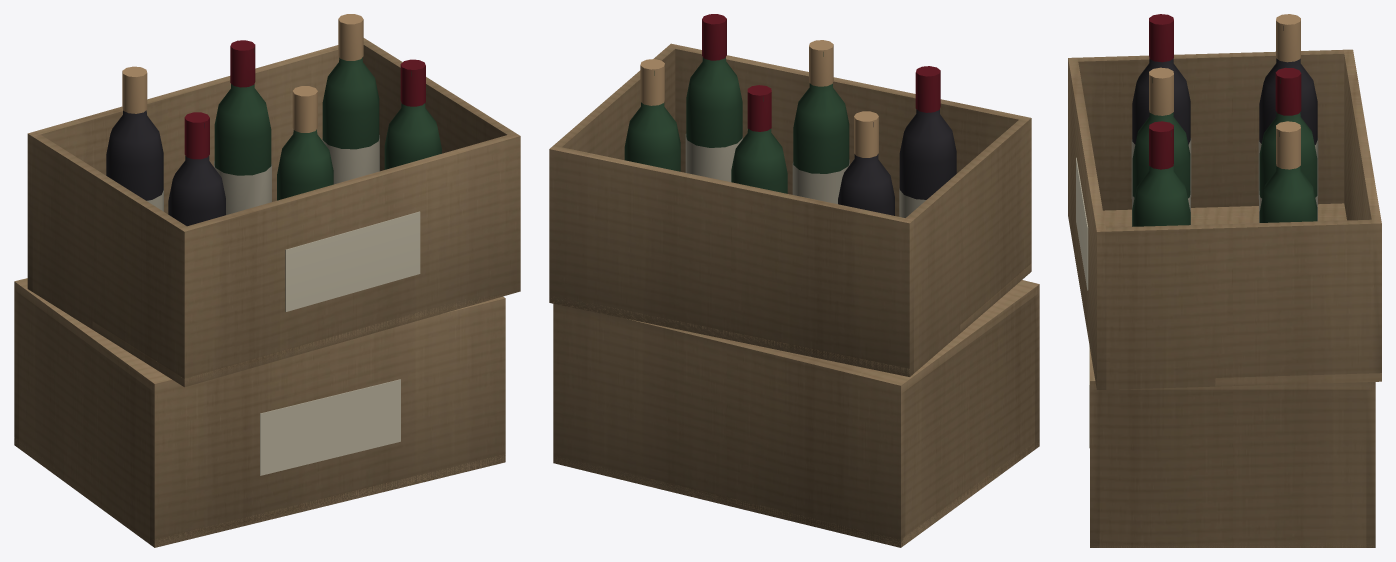
The model's file is decor_b_wine_crates.gltf.
3 views of the same model, side by side, from view 1: azimuth 30°, elevation 25°; view 2: azimuth 150°, elevation 25°; view 3: azimuth 270°, elevation 25° (orthographic). The views are drawn at different scales.
Parts seen in each view (by area): view 1: DecorBWineCrates_OakLight_NoCollide, DecorBWineCratesLow_OakLight, DecorBWineCrates_Label_NoCollide, DecorBWineCrates_WineBottle05_BottleGreen_NoCollide, DecorBWineCrates_WineBottle06_BottleGreen_NoCollide, DecorBWineCrates_WineBottle04_BottleBlack_NoCollide, DecorBWineCrates_WineBottle01_BottleBlack_NoCollide, DecorBWineCrates_WineBottle02_BottleGreen_NoCollide, DecorBWineCrates_WineBottle03_BottleGreen_NoCollide, DecorBWineCrates_WineBottle05_Label_NoCollide, DecorBWineCrates_WineBottle06_Label_NoCollide, DecorBWineCrates_WineBottle01_Wine_NoCollide (+5 smaller); view 2: DecorBWineCrates_OakLight_NoCollide, DecorBWineCratesLow_OakLight, DecorBWineCrates_WineBottle02_BottleGreen_NoCollide, DecorBWineCrates_WineBottle03_BottleGreen_NoCollide, DecorBWineCrates_WineBottle01_BottleBlack_NoCollide, DecorBWineCrates_WineBottle06_BottleGreen_NoCollide, DecorBWineCrates_WineBottle05_BottleGreen_NoCollide, DecorBWineCrates_WineBottle04_BottleBlack_NoCollide, DecorBWineCrates_WineBottle03_Label_NoCollide, DecorBWineCrates_WineBottle02_Label_NoCollide, DecorBWineCrates_WineBottle01_Wine_NoCollide, DecorBWineCrates_WineBottle05_Wine_NoCollide (+4 smaller); view 3: DecorBWineCrates_OakLight_NoCollide, DecorBWineCratesLow_OakLight, DecorBWineCrates_WineBottle03_BottleGreen_NoCollide, DecorBWineCrates_WineBottle06_BottleGreen_NoCollide, DecorBWineCrates_WineBottle05_BottleGreen_NoCollide, DecorBWineCrates_WineBottle04_BottleBlack_NoCollide, DecorBWineCrates_WineBottle01_BottleBlack_NoCollide, DecorBWineCrates_WineBottle02_BottleGreen_NoCollide, DecorBWineCrates_WineBottle05_Wine_NoCollide, DecorBWineCrates_WineBottle03_Wine_NoCollide, DecorBWineCrates_WineBottle06_Bronze_NoCollide, DecorBWineCrates_WineBottle01_Wine_NoCollide (+3 smaller).
Part boxes in pixels (bbox=[...]): DecorBWineCrates_OakLight_NoCollide: bbox=[27, 38, 520, 387]; DecorBWineCratesLow_OakLight: bbox=[14, 278, 505, 547]; DecorBWineCrates_Label_NoCollide: bbox=[260, 211, 420, 475]; DecorBWineCrates_WineBottle05_BottleGreen_NoCollide: bbox=[214, 48, 271, 175]; DecorBWineCrates_WineBottle06_BottleGreen_NoCollide: bbox=[322, 57, 379, 149]; DecorBWineCrates_WineBottle04_BottleBlack_NoCollide: bbox=[106, 110, 163, 200]; DecorBWineCrates_WineBottle01_BottleBlack_NoCollide: bbox=[168, 123, 225, 226]; DecorBWineCrates_WineBottle02_BottleGreen_NoCollide: bbox=[277, 129, 333, 200]; DecorBWineCrates_WineBottle03_BottleGreen_NoCollide: bbox=[384, 71, 441, 169]; DecorBWineCrates_WineBottle05_Label_NoCollide: bbox=[214, 161, 271, 214]; DecorBWineCrates_WineBottle06_Label_NoCollide: bbox=[322, 135, 379, 184]; DecorBWineCrates_WineBottle01_Wine_NoCollide: bbox=[184, 112, 209, 159]; DecorBWineCrates_OakLight_NoCollide: bbox=[549, 43, 1031, 376]; DecorBWineCratesLow_OakLight: bbox=[553, 280, 1039, 547]; DecorBWineCrates_WineBottle02_BottleGreen_NoCollide: bbox=[793, 52, 849, 173]; DecorBWineCrates_WineBottle03_BottleGreen_NoCollide: bbox=[686, 57, 742, 147]; DecorBWineCrates_WineBottle01_BottleBlack_NoCollide: bbox=[899, 109, 956, 199]; DecorBWineCrates_WineBottle06_BottleGreen_NoCollide: bbox=[624, 71, 680, 171]; DecorBWineCrates_WineBottle05_BottleGreen_NoCollide: bbox=[731, 97, 787, 193]; DecorBWineCrates_WineBottle04_BottleBlack_NoCollide: bbox=[838, 122, 894, 215]; DecorBWineCrates_WineBottle03_Label_NoCollide: bbox=[685, 134, 742, 181]; DecorBWineCrates_WineBottle02_Label_NoCollide: bbox=[792, 159, 849, 204]; DecorBWineCrates_WineBottle01_Wine_NoCollide: bbox=[915, 66, 940, 112]; DecorBWineCrates_WineBottle05_Wine_NoCollide: bbox=[747, 85, 771, 131]; DecorBWineCrates_OakLight_NoCollide: bbox=[1068, 49, 1381, 389]; DecorBWineCratesLow_OakLight: bbox=[1090, 349, 1375, 547]; DecorBWineCrates_WineBottle03_BottleGreen_NoCollide: bbox=[1132, 131, 1190, 226]; DecorBWineCrates_WineBottle06_BottleGreen_NoCollide: bbox=[1259, 132, 1317, 222]; DecorBWineCrates_WineBottle05_BottleGreen_NoCollide: bbox=[1259, 78, 1317, 198]; DecorBWineCrates_WineBottle04_BottleBlack_NoCollide: bbox=[1259, 26, 1317, 144]; DecorBWineCrates_WineBottle01_BottleBlack_NoCollide: bbox=[1132, 58, 1190, 144]; DecorBWineCrates_WineBottle02_BottleGreen_NoCollide: bbox=[1132, 78, 1190, 198]; DecorBWineCrates_WineBottle05_Wine_NoCollide: bbox=[1275, 67, 1301, 115]; DecorBWineCrates_WineBottle03_Wine_NoCollide: bbox=[1149, 121, 1173, 169]; DecorBWineCrates_WineBottle06_Bronze_NoCollide: bbox=[1276, 121, 1300, 169]; DecorBWineCrates_WineBottle01_Wine_NoCollide: bbox=[1149, 14, 1173, 62].
Size of the model in its own units: 0.5469 by 0.546 by 0.3954.
6 materials, 1 textured.
